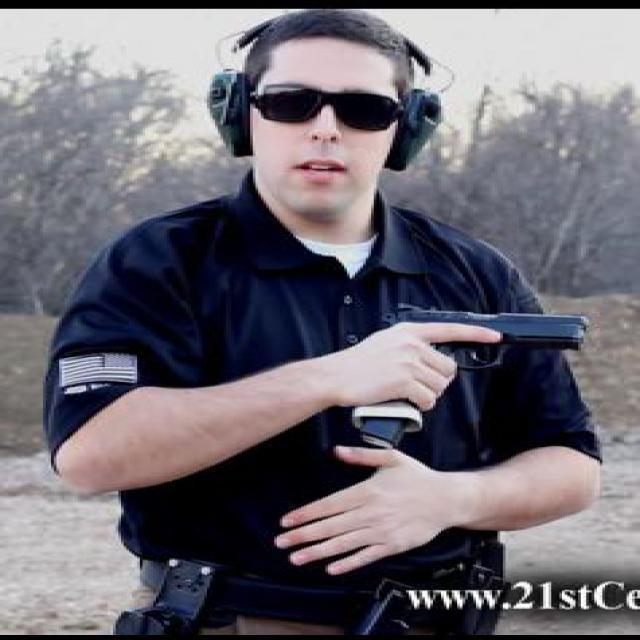gun: (352, 298, 594, 443)
